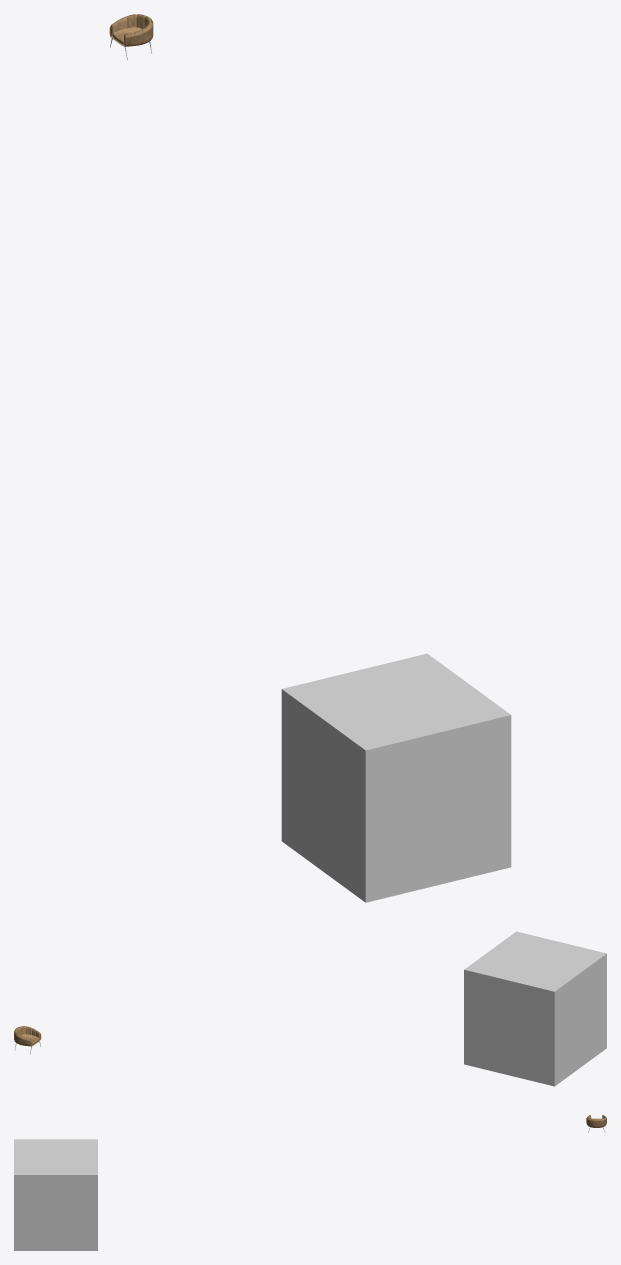
The picture shows the model from 3 angles, top to bottom: view 1: azimuth 30°, elevation 25°; view 2: azimuth 150°, elevation 25°; view 3: azimuth 270°, elevation 25°; orthographic projection. The views are drawn at different scales.
Parts seen in each view (by area): view 1: Cube; view 2: Cube, Cube.001; view 3: Cube.
Boxes of the visible parts, box(x1,y1,x2,y2) form: Cube: box(281, 653, 511, 902); Cube: box(464, 931, 606, 1086); Cube.001: box(14, 1026, 40, 1045); Cube: box(14, 1139, 97, 1250).
Size of the model in its own units: 5.05 by 4.87 by 14.11.
Materials: 2 (1 with a texture image).
